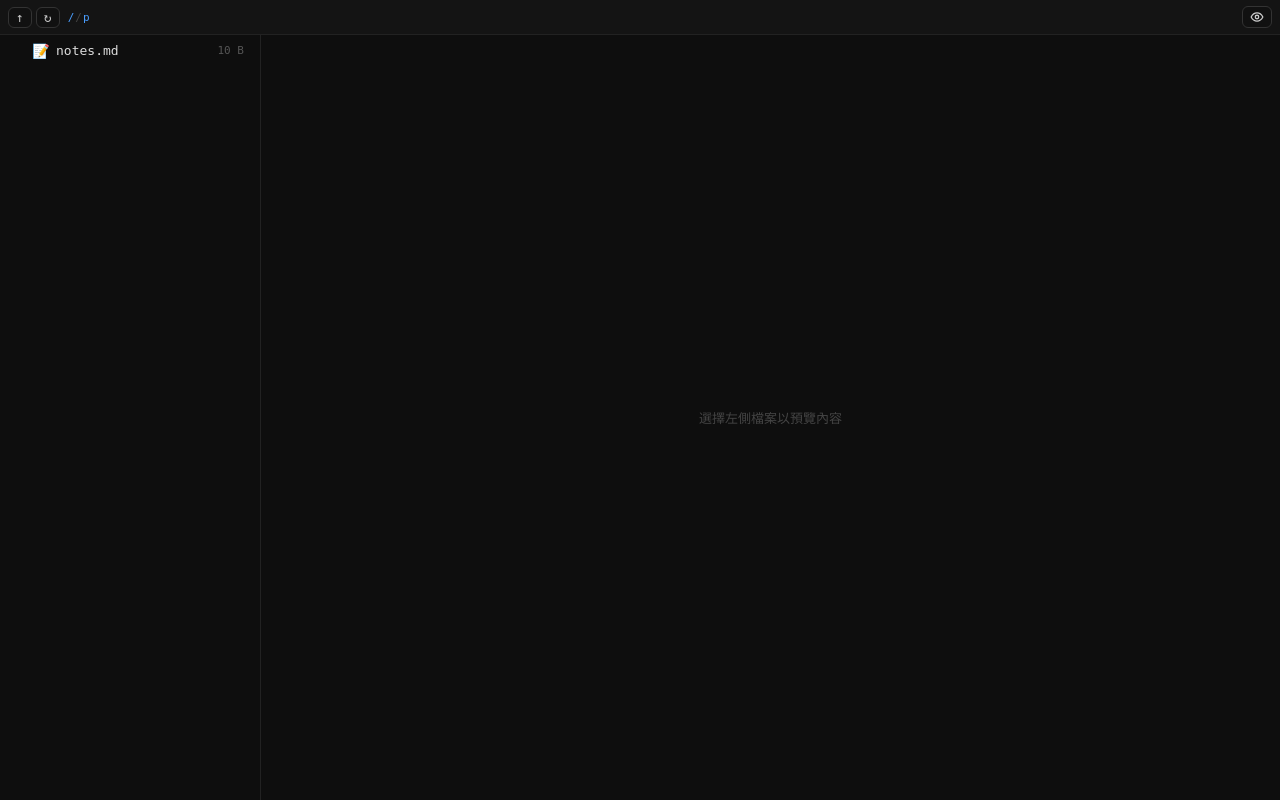
FileExplorer — hidden files toggle › hides dotfiles until asked, then shows them
Check: the text "notes.md" is shown, box [56,43,119,58]
Check: the text ".zshrc" is not shown
Click the button named "顯示/隱藏隱藏檔案".
click(1257, 17)  # box [1242,6,1272,28]
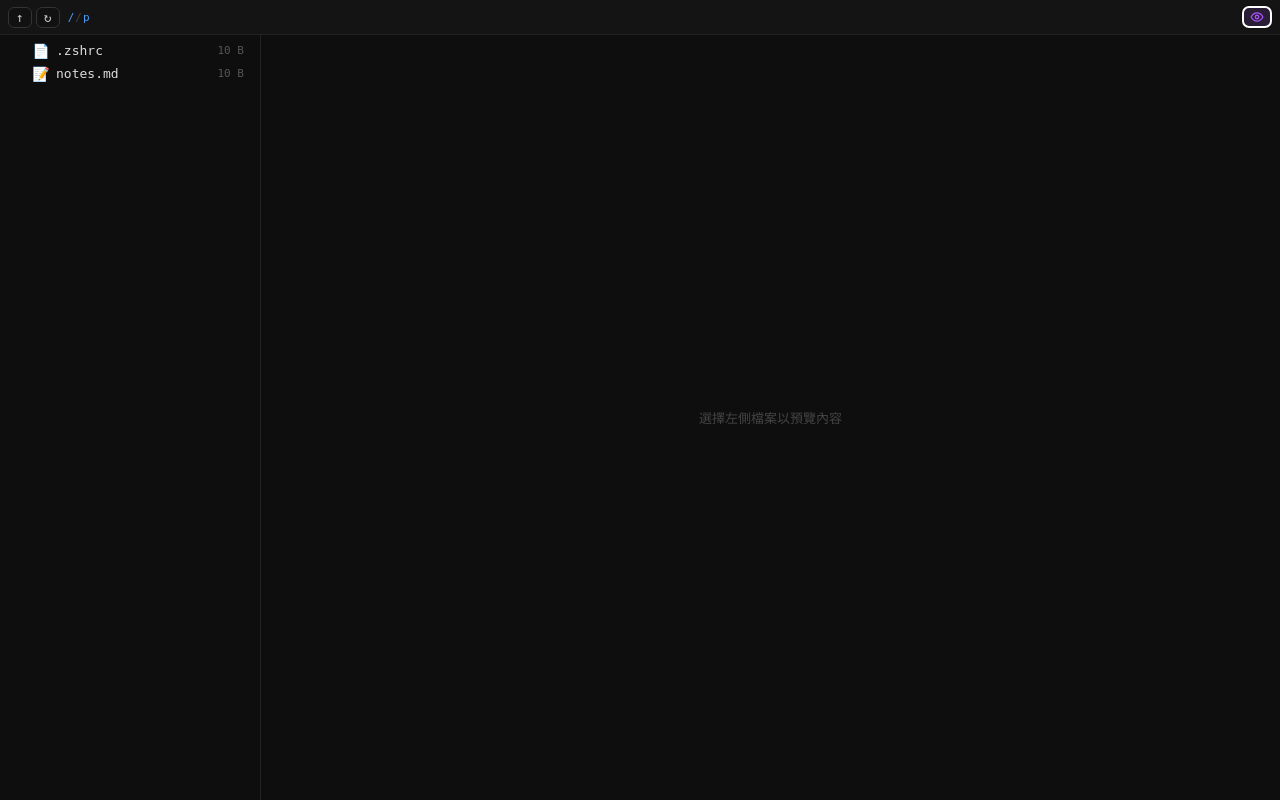
Check: the text ".zshrc" is shown, box [56,43,103,58]
